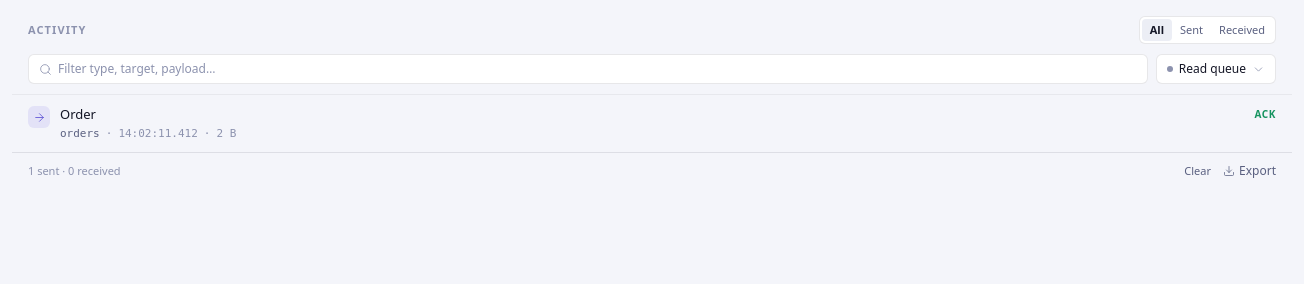
expanded row › clicking the row again collapses it
The image size is (1304, 284).
Click the text "Order". click: (78, 114)
box: 60,105 -> 96,123
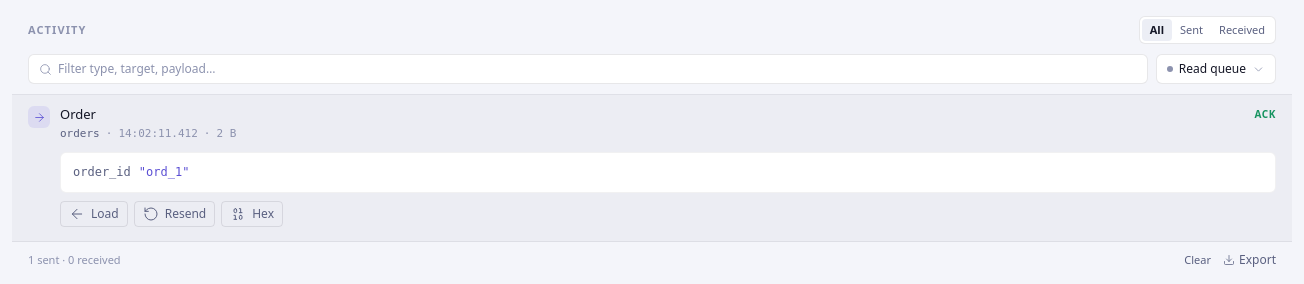
Now the text "order_id" is shown, box 73,163 -> 131,182
Click the text "Order". click: (78, 114)
box: 60,105 -> 96,123
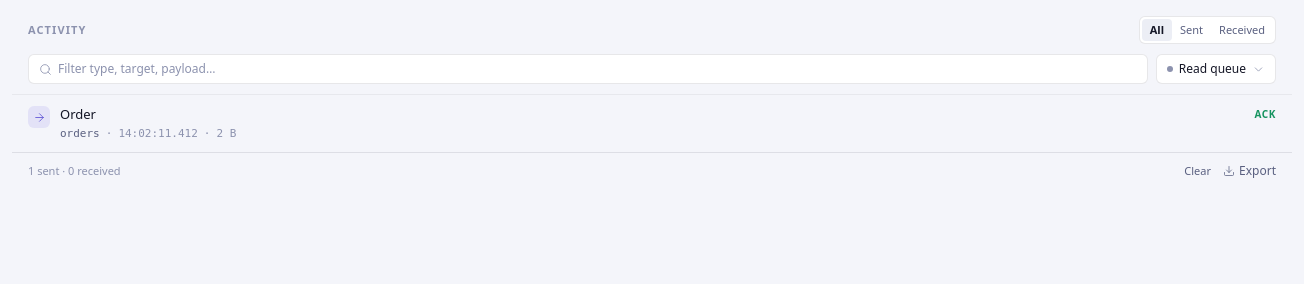
Now the text "order_id" is gone
